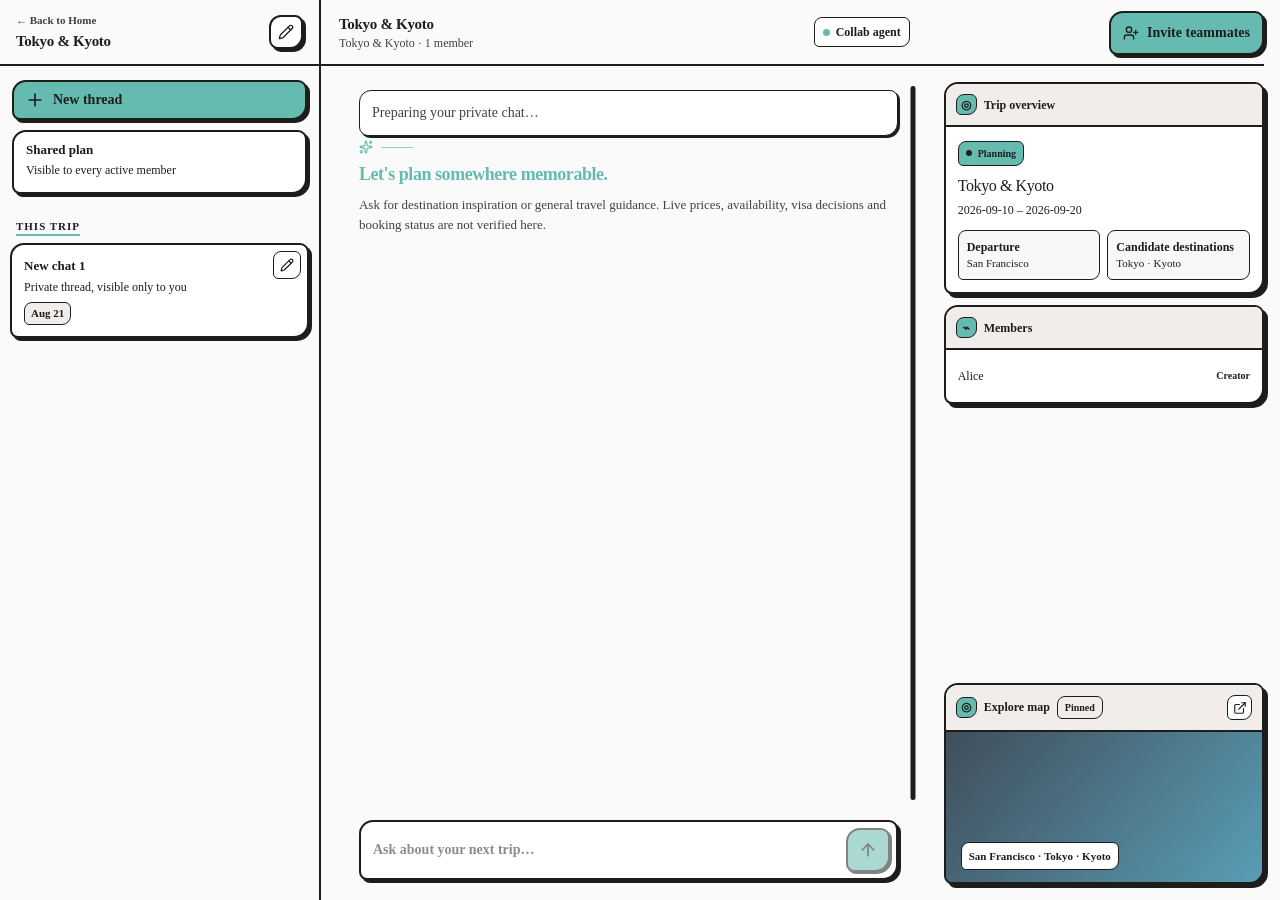
Test: TripWorkspace › explains a refused AI naming attempt (REJECTED) and keeps the title
Click the button named "Thread actions" at (287, 264), box [273,250,301,278]
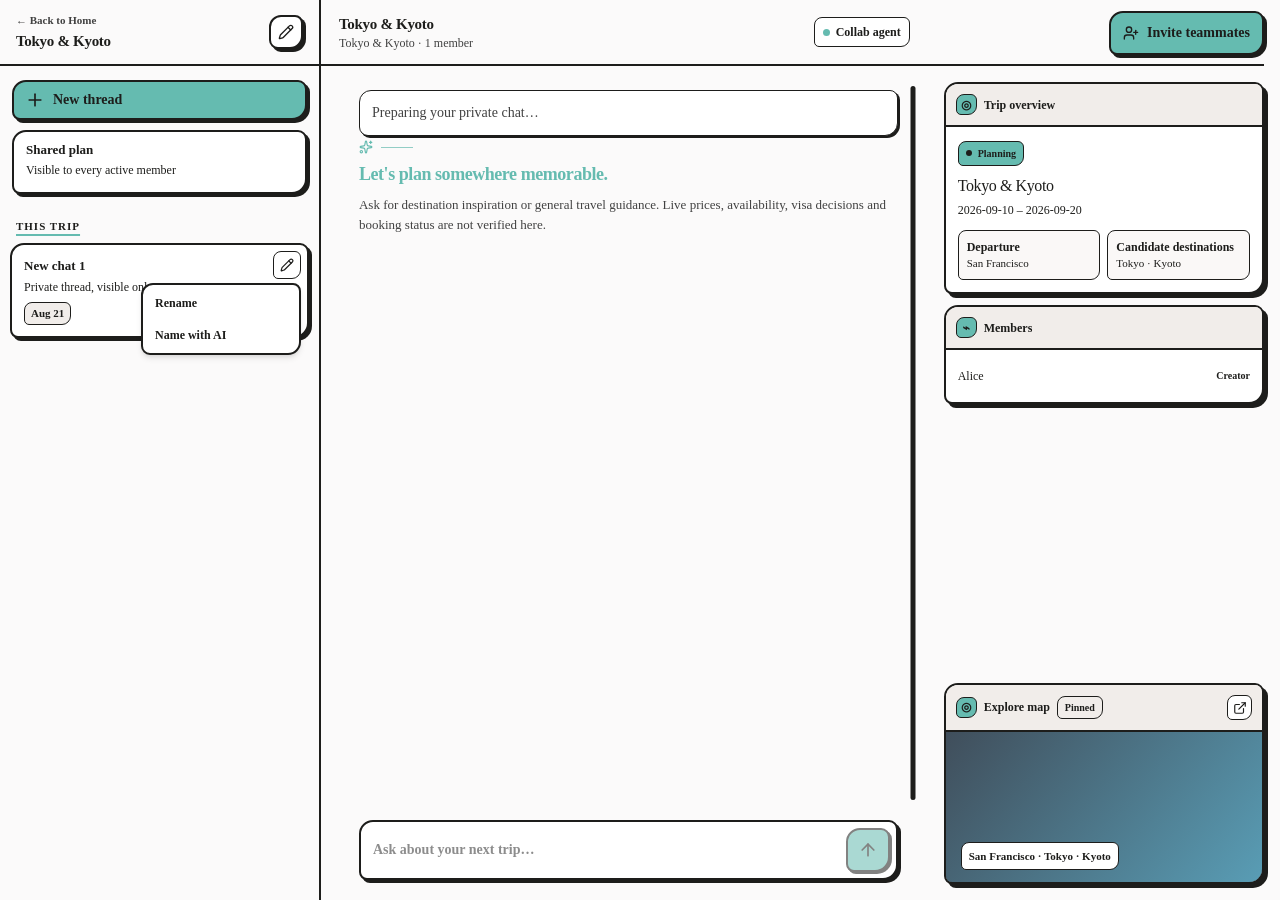
Click the menu item "Name with AI" at (221, 334), box [147,320,295,348]
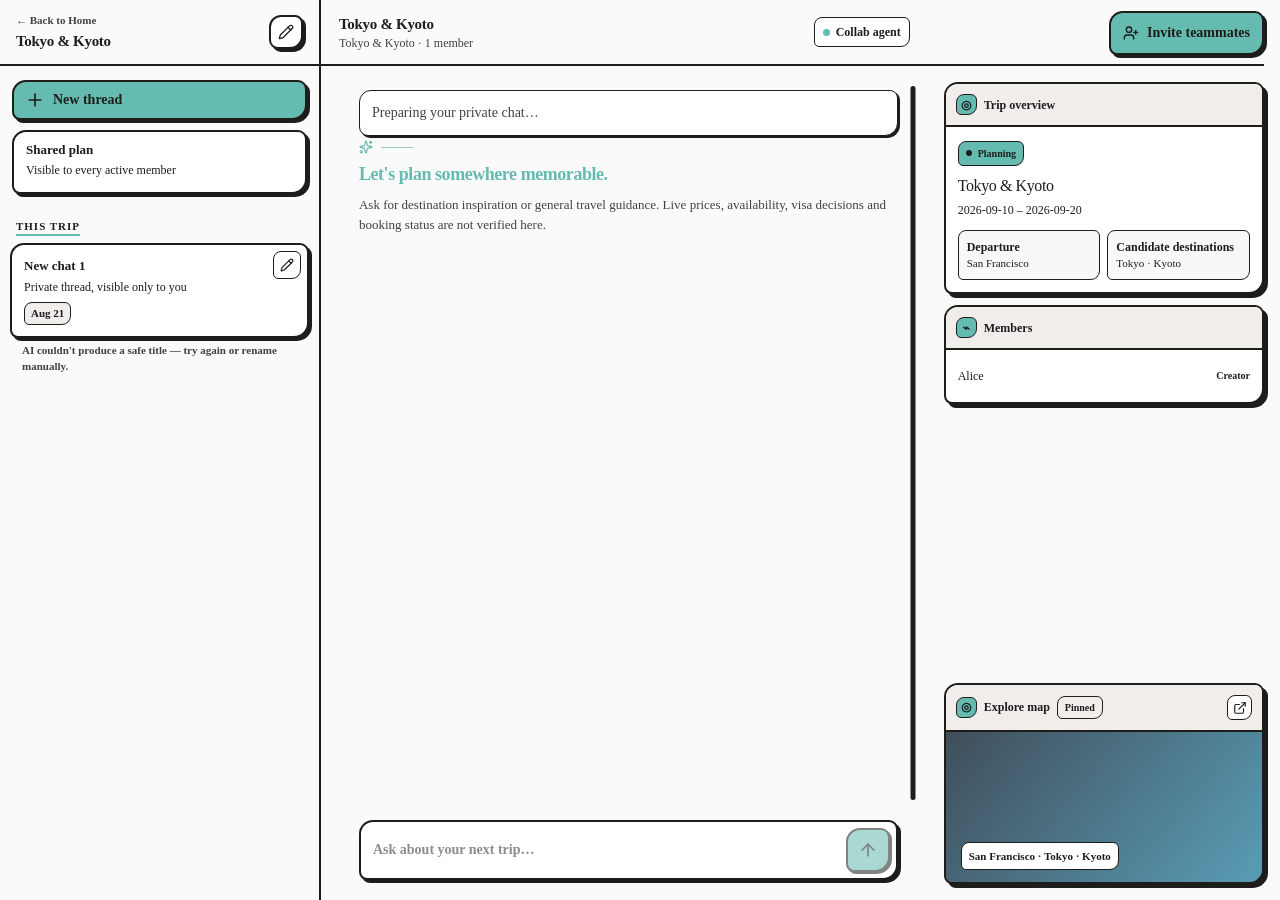
expect the button "New chat 1 Private thread, visible only to you Aug 21" is shown: met, box [10,242,309,338]
expect the text "AI couldn't produce a safe title — try again or rename manually." is shown: met, box [10,342,309,374]
